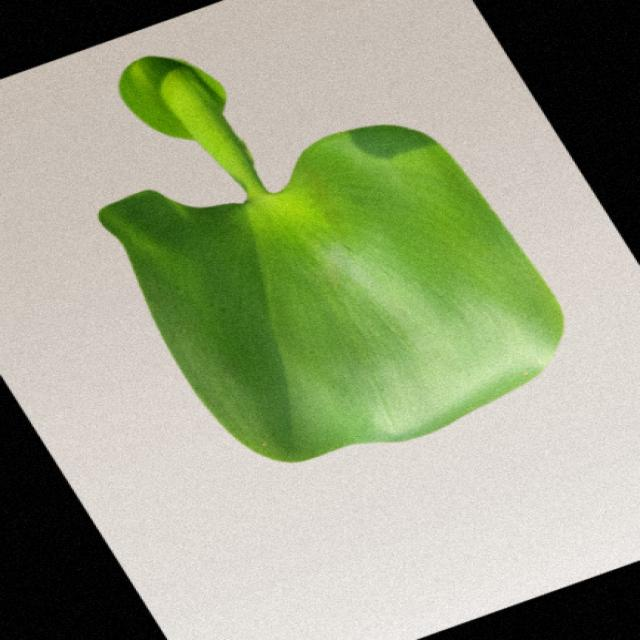daun sehat: (100, 58, 563, 461)
